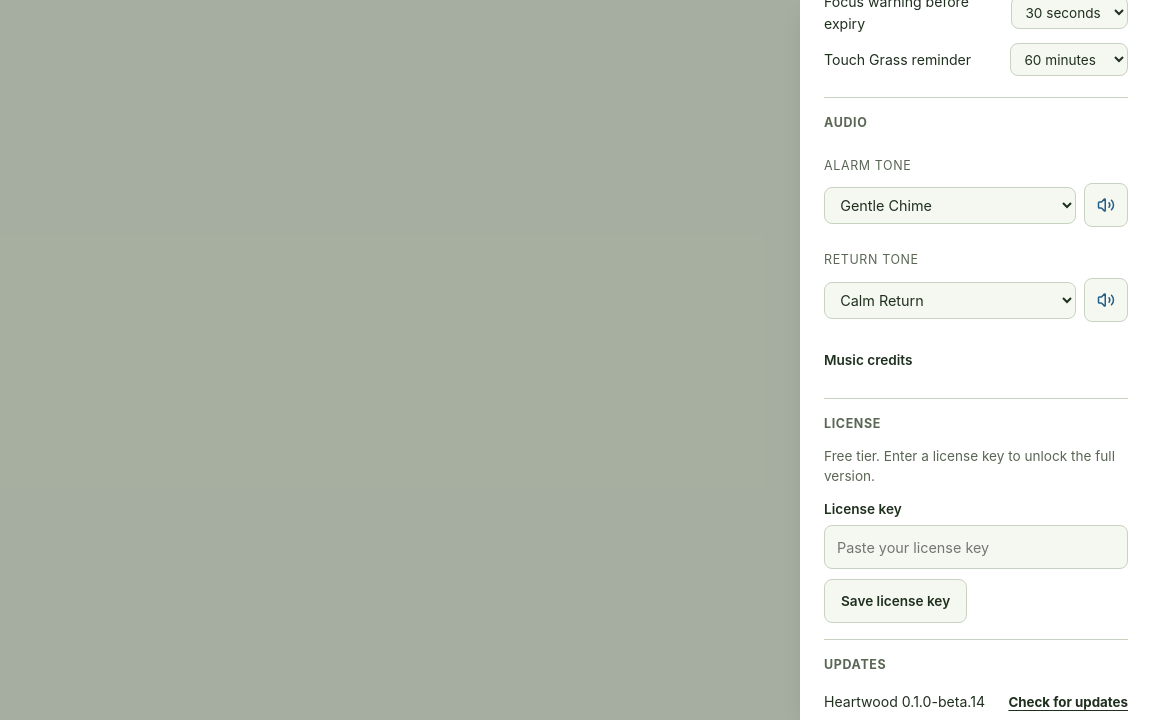
Scenario: SettingsDrawer › lists all bundled music credits without adding playback controls to Settings
This screenshot has width=1152, height=720.
(page scrolled)
Click the heading "Music credits".
click(868, 360)  # box [824,352,912,368]
(page scrolled)
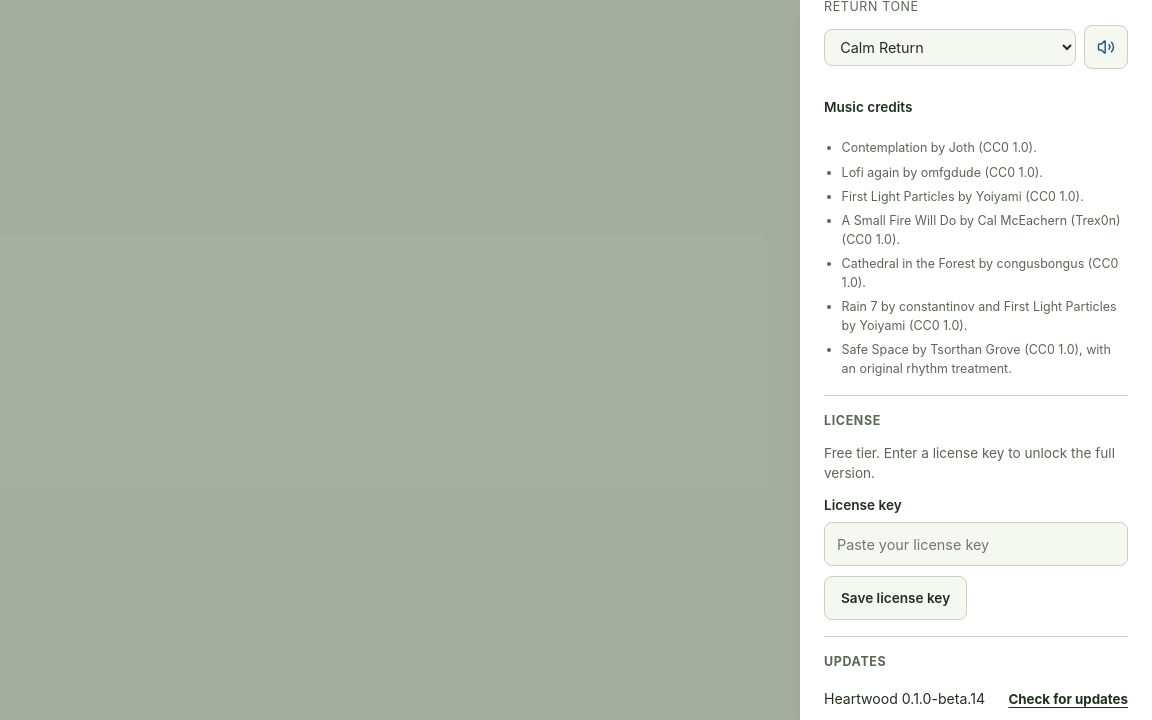
Expected: the list item "Contemplation by Joth (CC0 1.0)." is shown, [842,140,1037,155]
Expected: the list item "Lofi again by omfgdude (CC0 1.0)." is shown, [842,165,1043,180]
Expected: the list item "First Light Particles by Yoiyami (CC0 1.0)." is shown, [842,189,1084,204]
